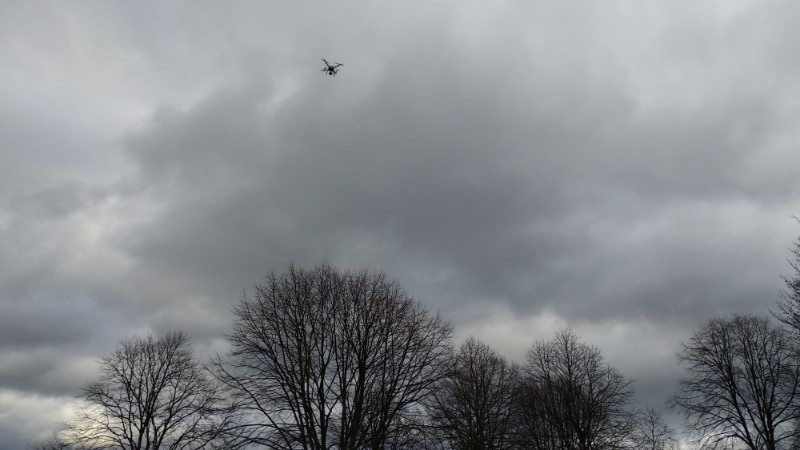drone: (319, 58, 343, 77)
